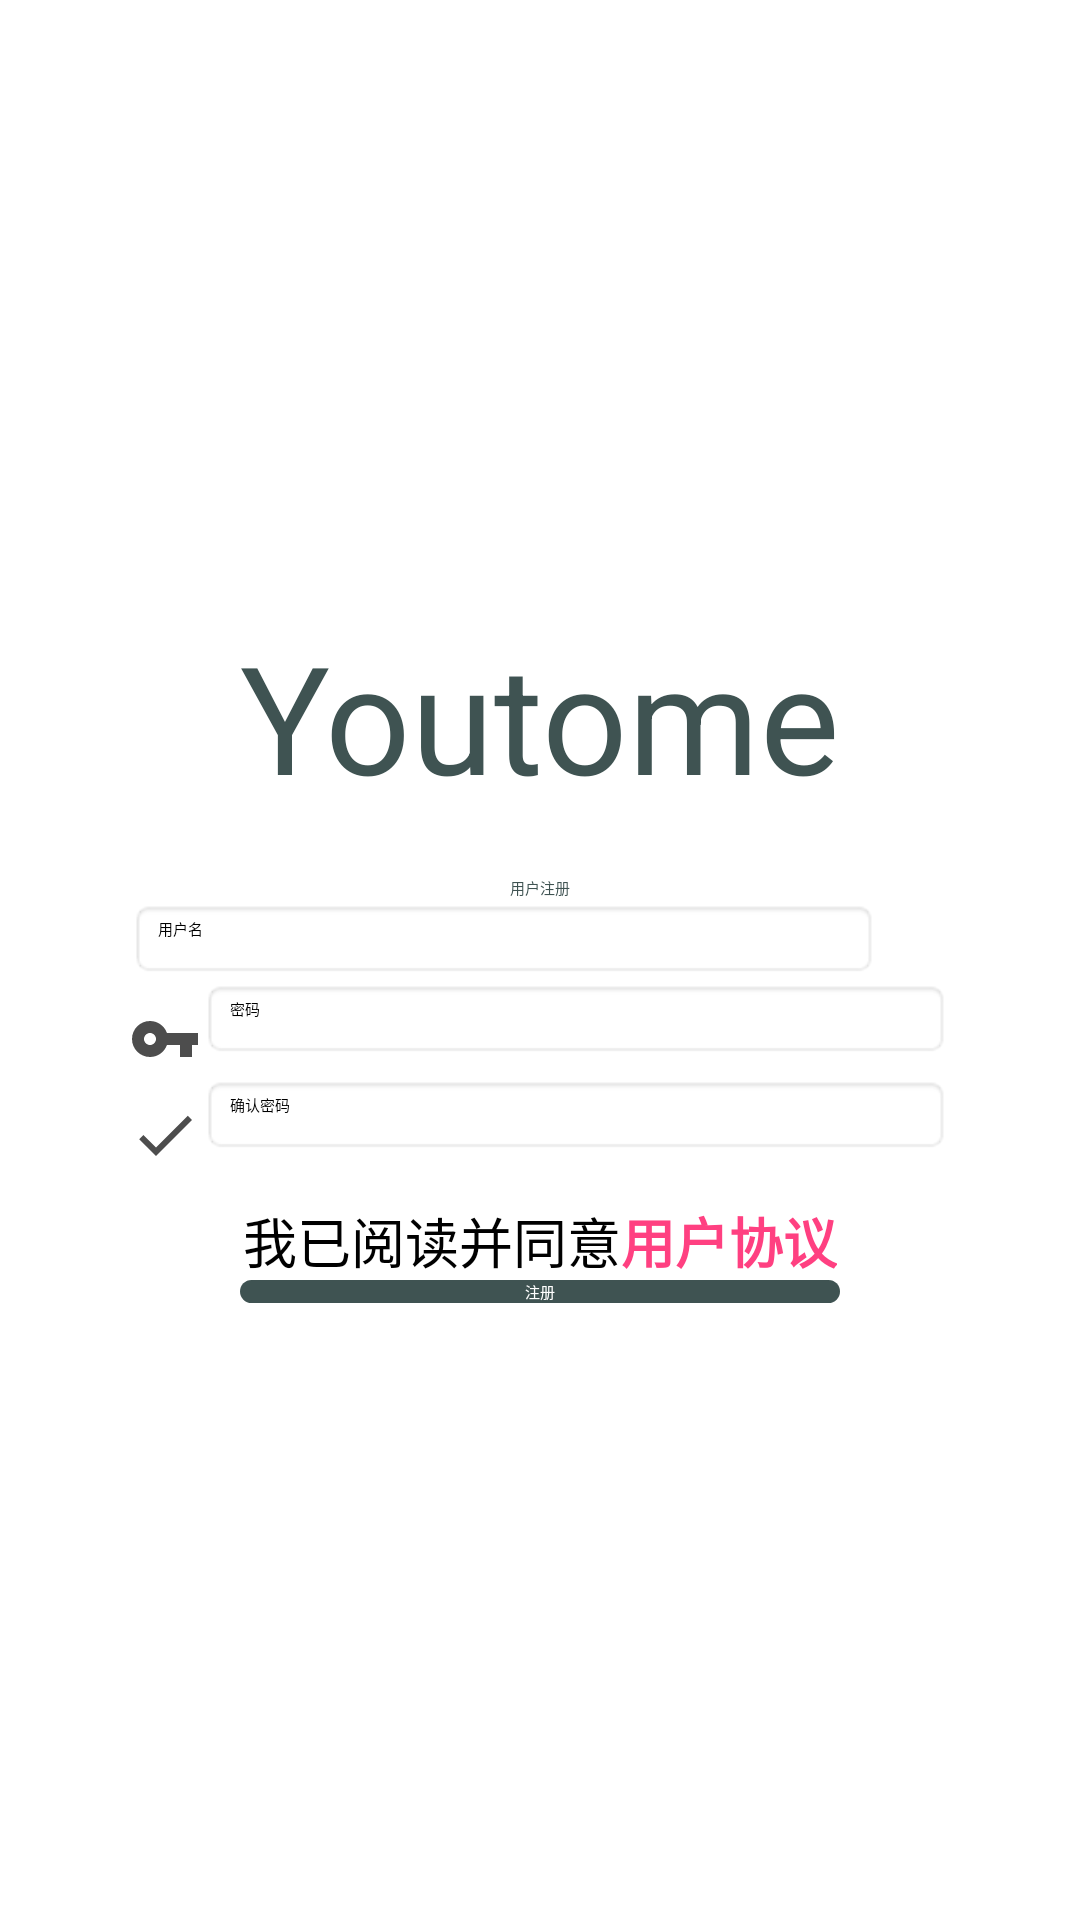

Screen size 1080px×1920px. Icon name, then its box in pixels as (x1, y1, x2, y2):
done: (139, 1116, 192, 1156)
vpn key: (132, 1021, 198, 1057)
